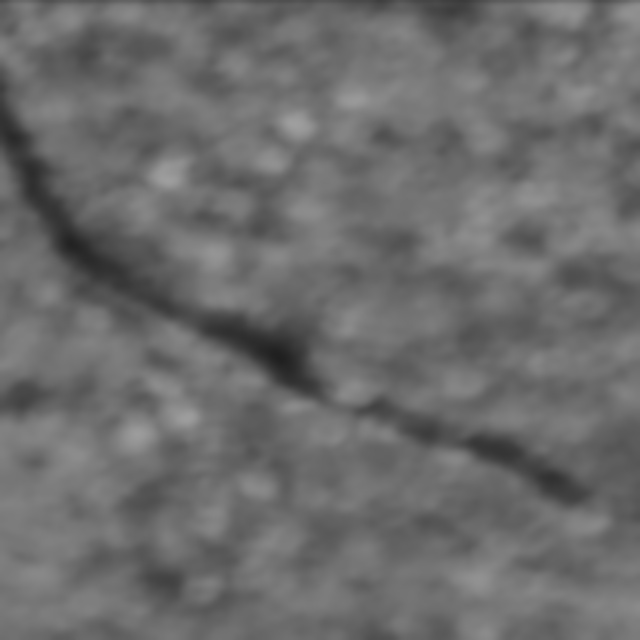SurfaceCrack: (2, 8, 640, 619)
